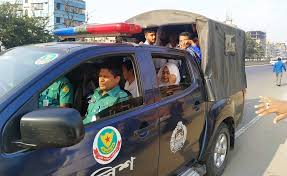policecar: (1, 7, 248, 176)
